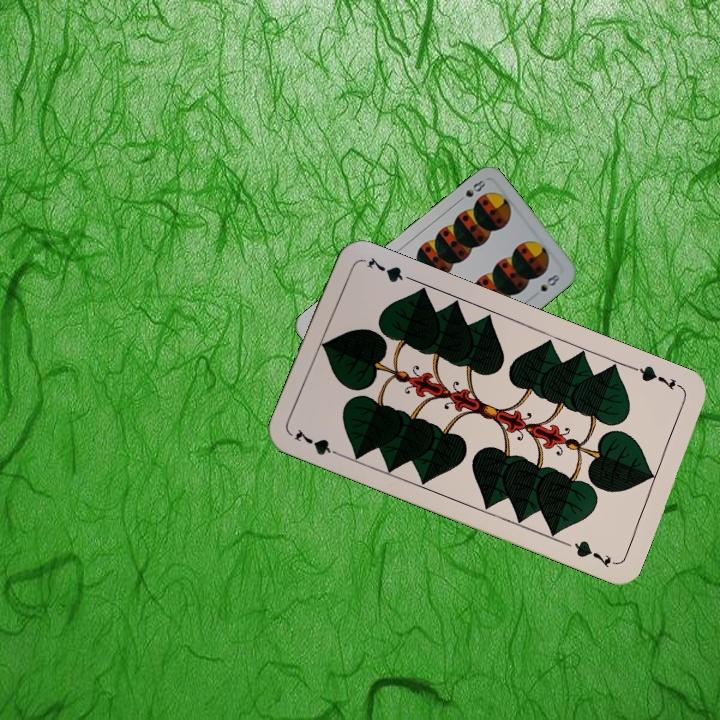G7: (291, 424, 346, 460), (629, 361, 686, 393)
S8: (453, 176, 488, 206)
